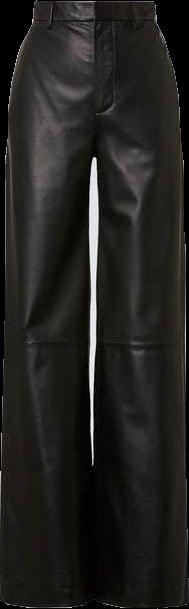Hemline: (91, 591, 188, 608), (0, 592, 96, 608)
Pantleg: (92, 1, 187, 606), (0, 0, 93, 608)
Waistline: (31, 14, 156, 25), (32, 0, 155, 7)
